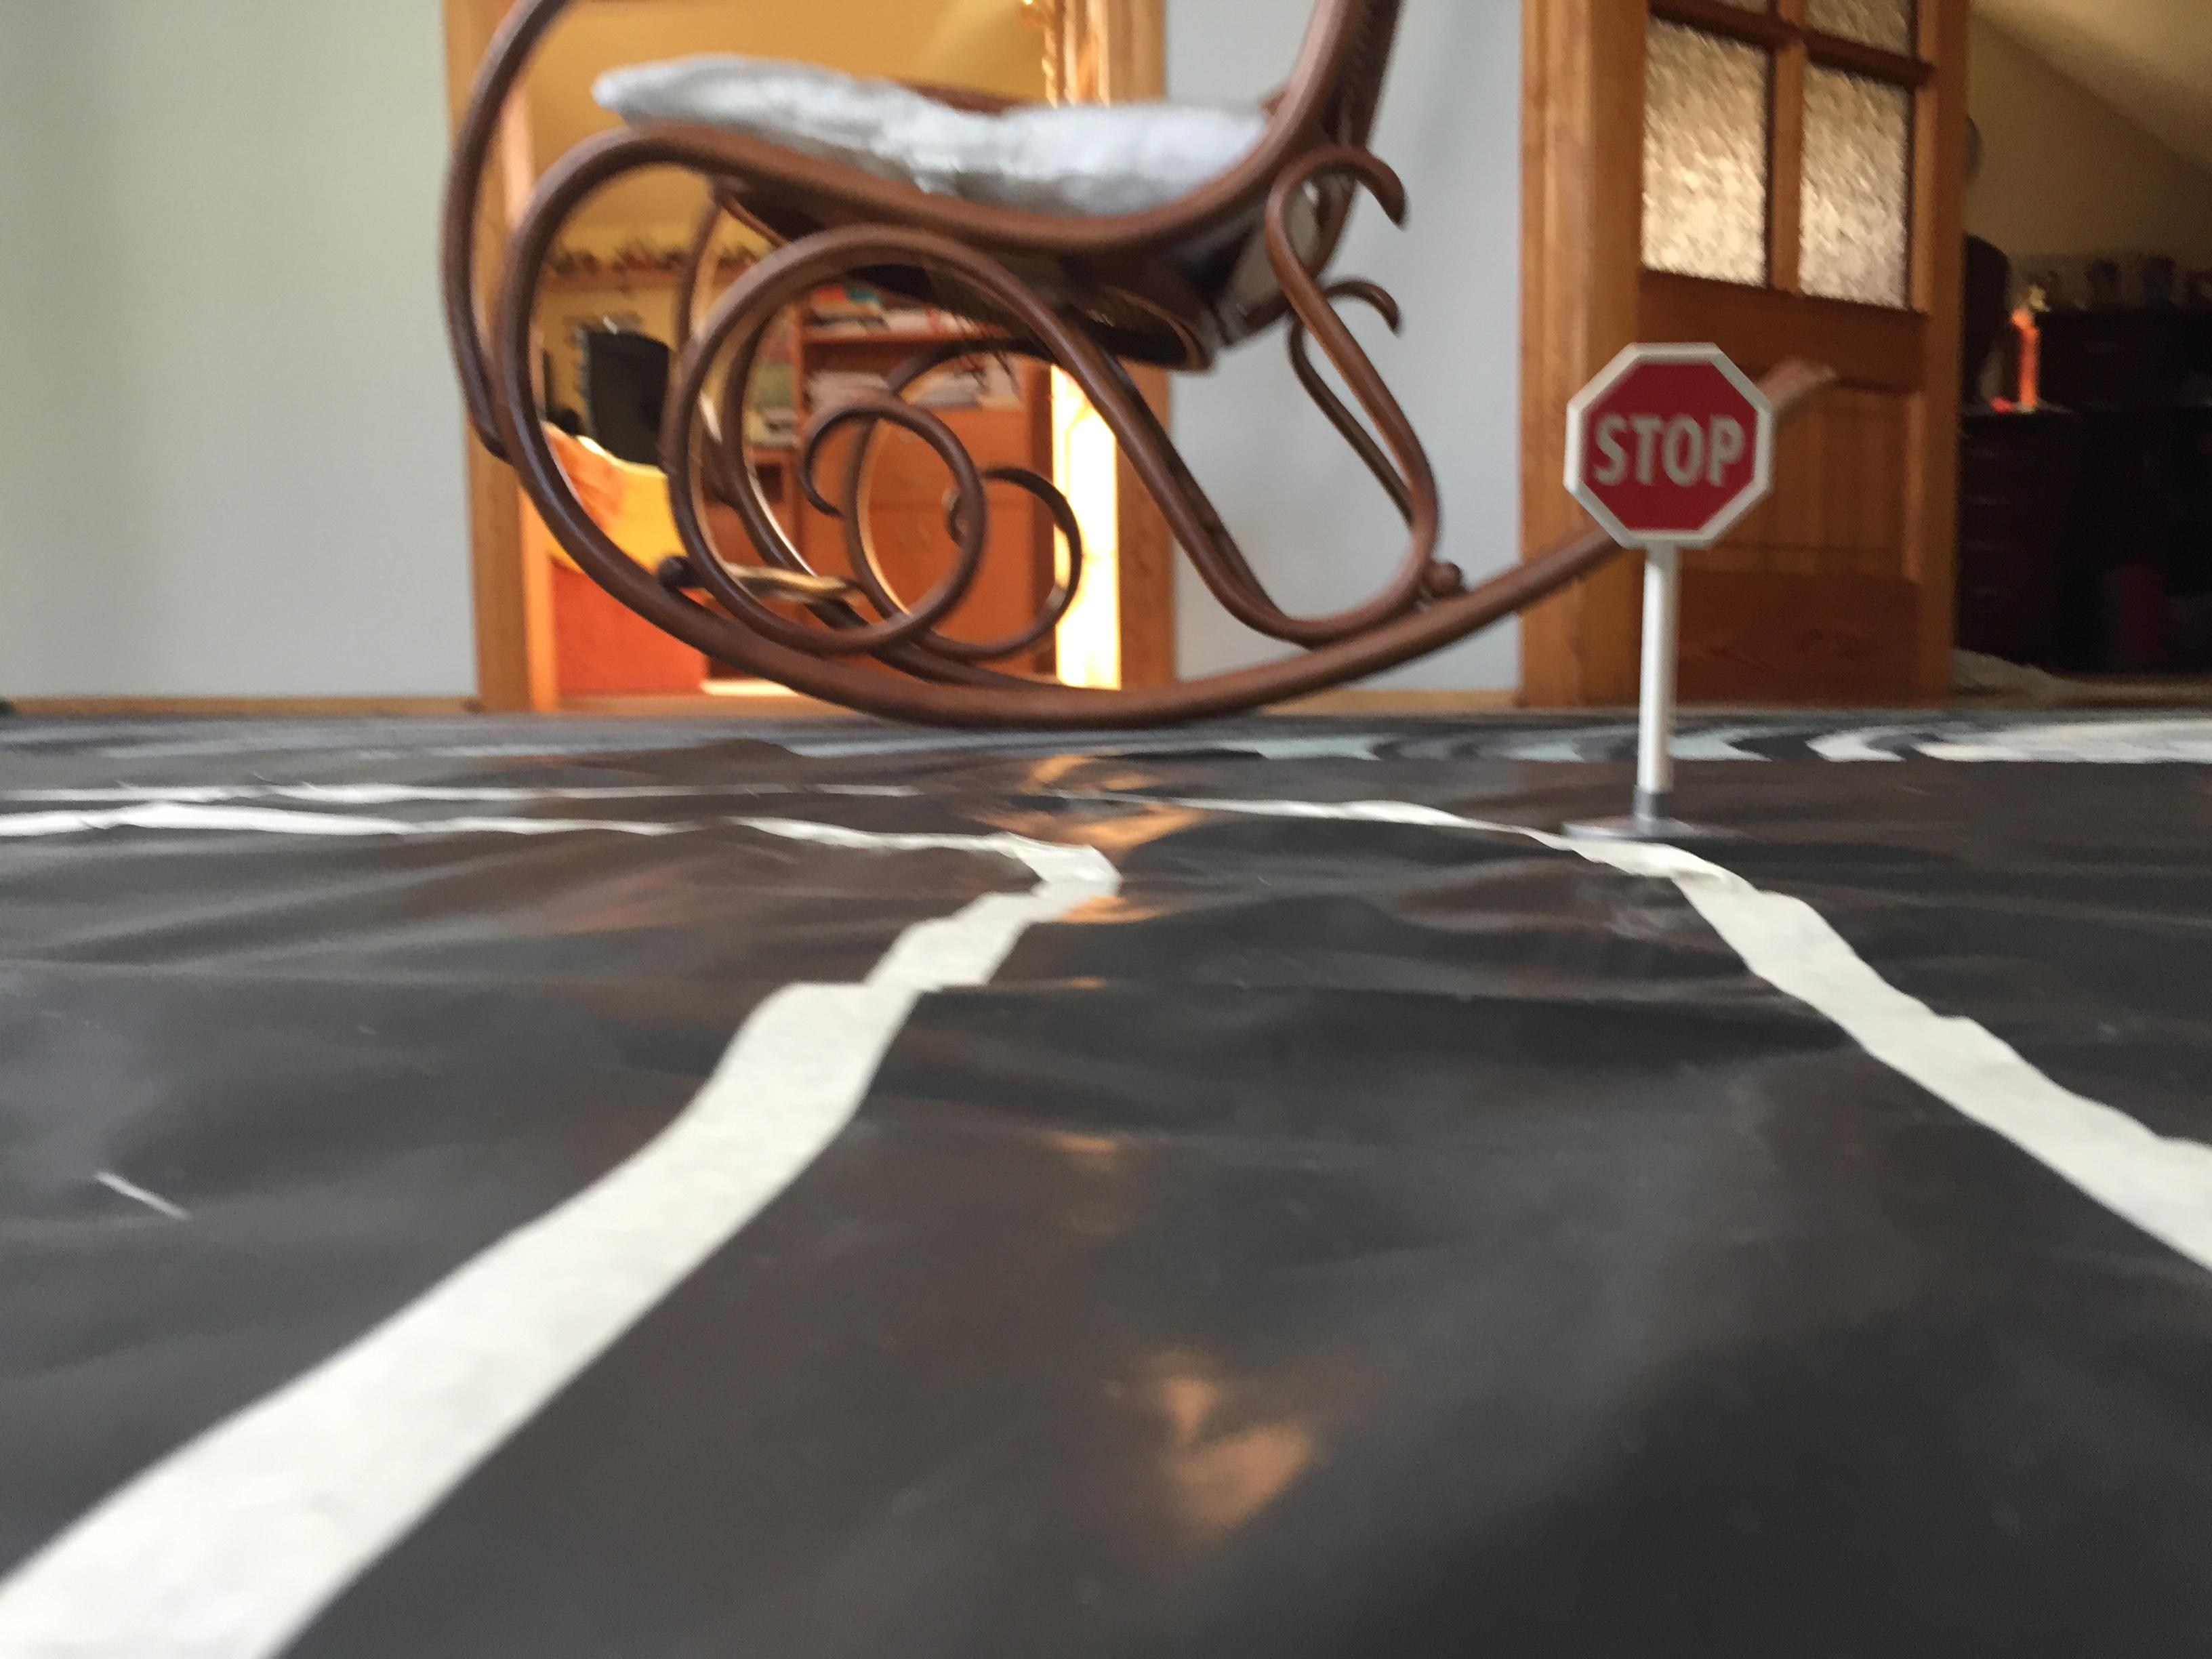stop: (1555, 329, 1782, 566)
